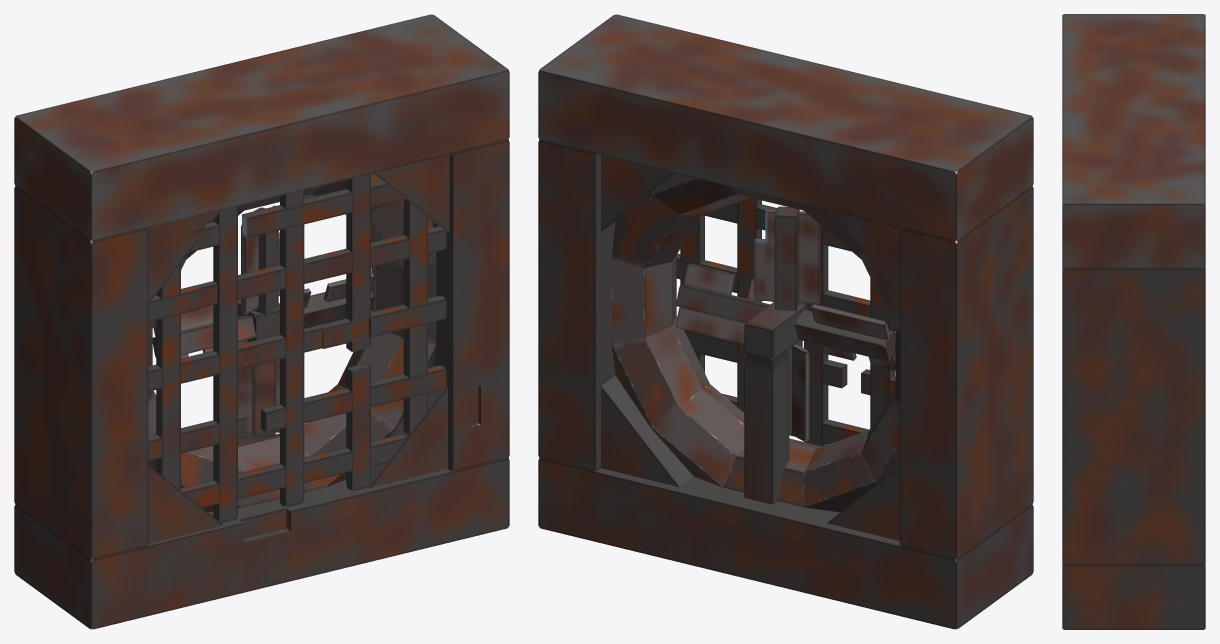
File: Fan.fbx
The picture shows the model from 3 angles, left to right: view 1: azimuth 30°, elevation 25°; view 2: azimuth 150°, elevation 25°; view 3: azimuth 270°, elevation 25°; orthographic projection. The views are drawn at different scales.
Parts seen in each view (by area): view 1: cube_3, cube_4, cube_32, cube_1, torus, cube_45, cube_12, cube_46, cube_47, cube_9, cube_7, cube_8 (+37 smaller); view 2: cube_3, cube_4, torus, cube_32, cube_1, cube_45, cube_56, cube_46, cube_7, cube_47, cube_8, cube_5 (+21 smaller); view 3: cube_45, cube_3, cube_32.
Boxes of the visible parts, x1,y1,x2,y2 form: cube_3: (14,14,509,241); cube_4: (14,186,148,559); cube_32: (275,458,509,580); cube_1: (14,505,243,629); torus: (148,173,436,513); cube_45: (478,139,509,464); cube_12: (213,206,237,522); cube_46: (432,147,480,292); cube_47: (433,281,480,392); cube_9: (156,314,180,490); cube_7: (369,386,447,487); cube_8: (373,153,454,233); cube_3: (538,14,1033,241); cube_4: (899,186,1033,559); torus: (611,173,899,512); cube_32: (538,458,767,580); cube_1: (804,505,1033,629); cube_45: (538,139,566,464); cube_56: (744,349,789,504); cube_46: (567,147,615,292); cube_7: (601,375,693,486); cube_47: (567,281,615,392); cube_8: (593,153,674,231); cube_5: (827,465,899,540); cube_45: (1062,267,1205,565); cube_3: (1062,14,1205,268); cube_32: (1062,563,1205,629).
Bounding box in the file's own units: 275 × 288 × 87.5.
1 material, 1 textured.
